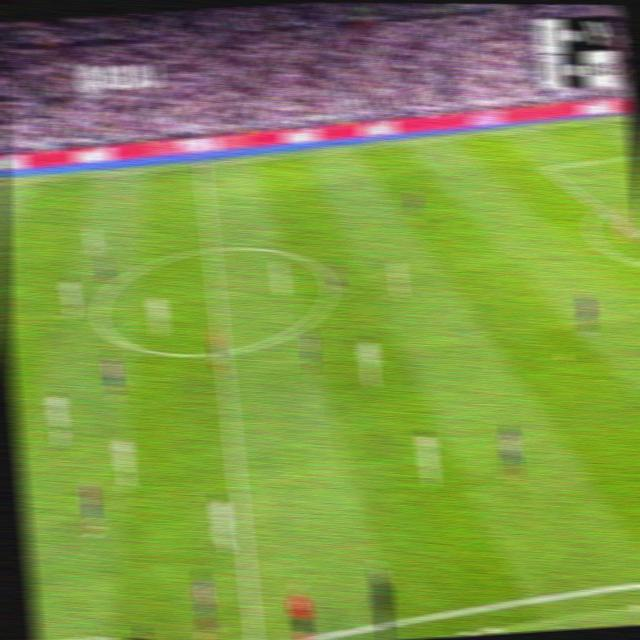bigarea_top_inner: (538, 160, 552, 174)
corner: (620, 108, 632, 120)
halfcircle_bottom: (214, 339, 232, 364)
halfcircle_top: (200, 235, 220, 262)
midline_bottom_intersection: (242, 629, 265, 640)
midline_top_intersection: (195, 157, 208, 171)
top_arc_area_intersection: (593, 200, 609, 215)
